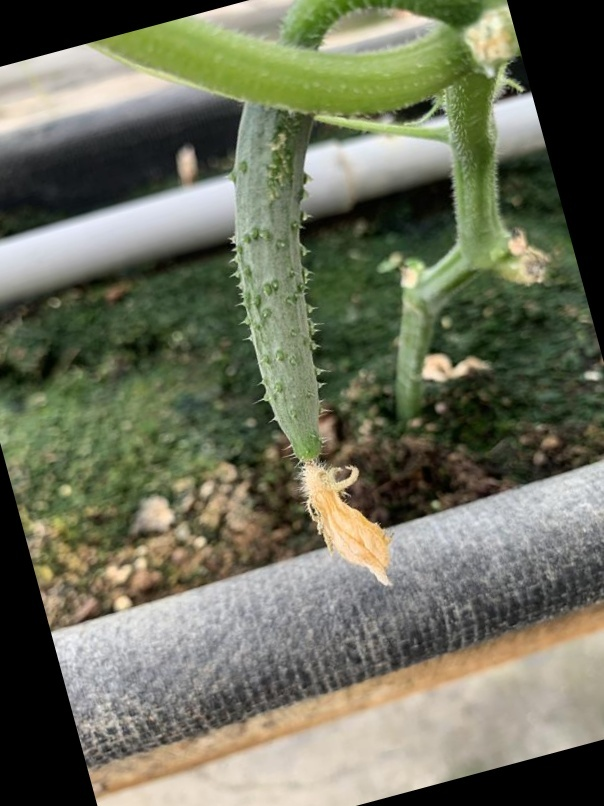bear: (197, 106, 399, 605)
